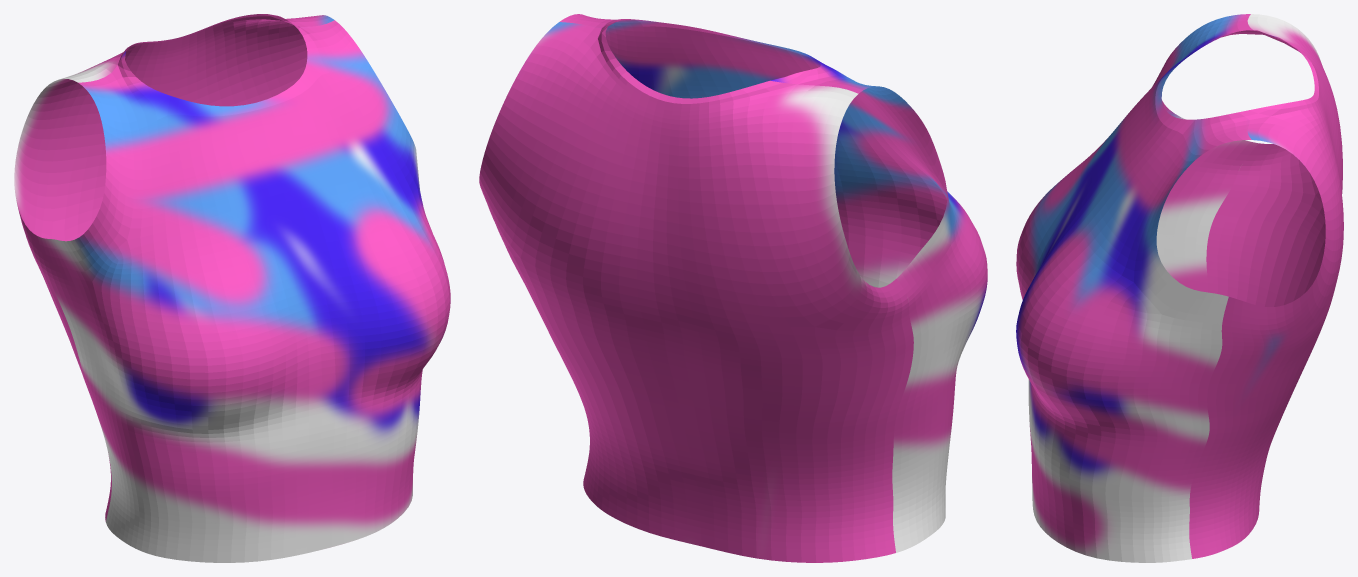
Rendered from Shirt.gltf.
3 renders of one model, left to right at view 1: azimuth 30°, elevation 25°; view 2: azimuth 150°, elevation 25°; view 3: azimuth 270°, elevation 25°, orthographic. The views are drawn at different scales.
Visible parts, largest first — view 1: RetopoFlow; view 2: RetopoFlow; view 3: RetopoFlow.
Boxes of the visible parts, x1,y1,x2,y2 form: RetopoFlow: (14, 14, 450, 562); RetopoFlow: (479, 14, 987, 562); RetopoFlow: (1016, 14, 1343, 562).
Bounding box in the file's own units: 1.32 × 1.57 × 1.09.
Materials: 1 (1 with a texture image).
